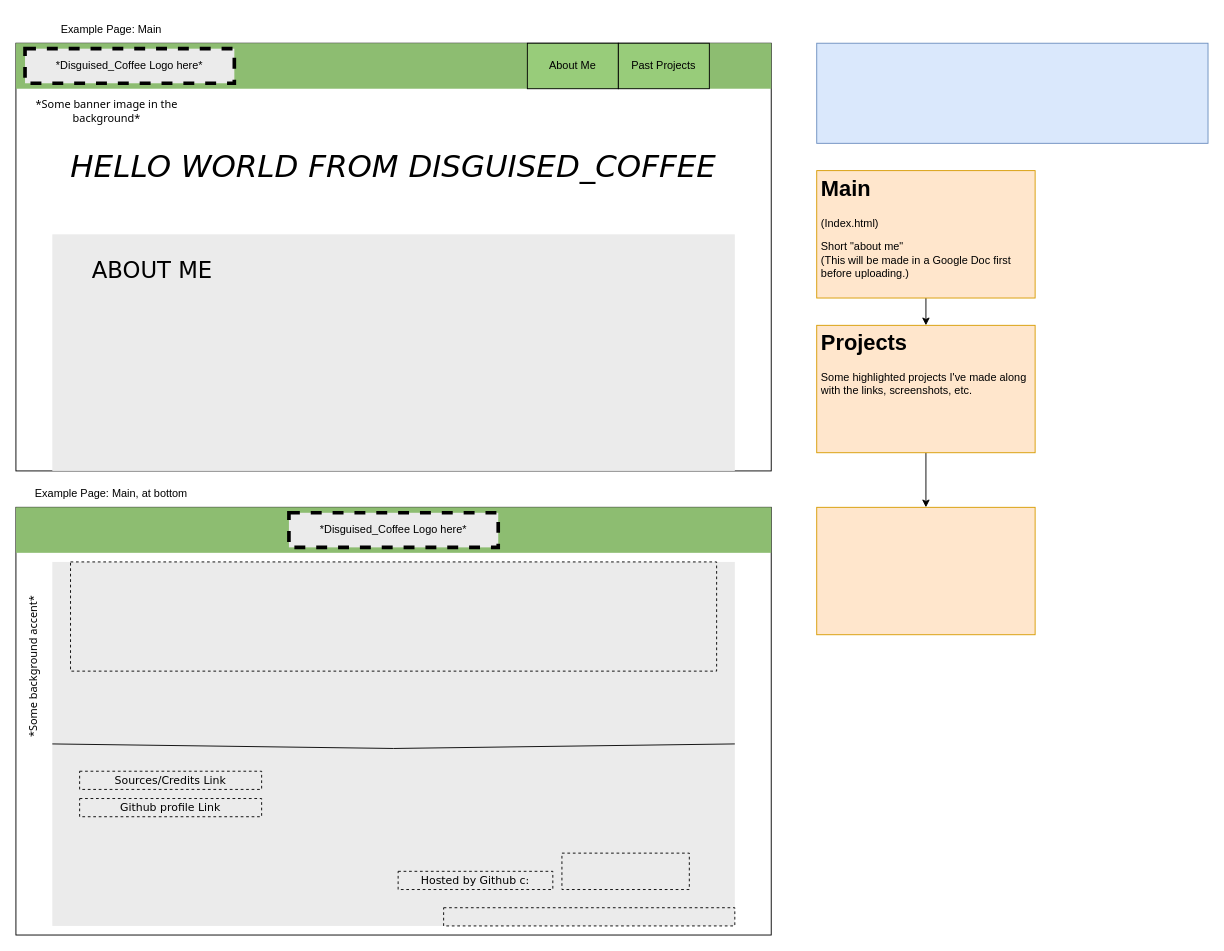
Image size: 1224x951. Some labels were removed from this diagram. Here are the shapes that lost their labels. From the top down, the box of each, then its label:
(816, 42, 1208, 143): Top Bar (throughout entire website) Main Projects
(816, 506, 1035, 635): Some Project Description for a highlighted project
(70, 561, 717, 671): *some type of text*
(561, 852, 689, 890): *Git would be here*
(443, 907, 735, 926): Website made by Disguised_Coffee
